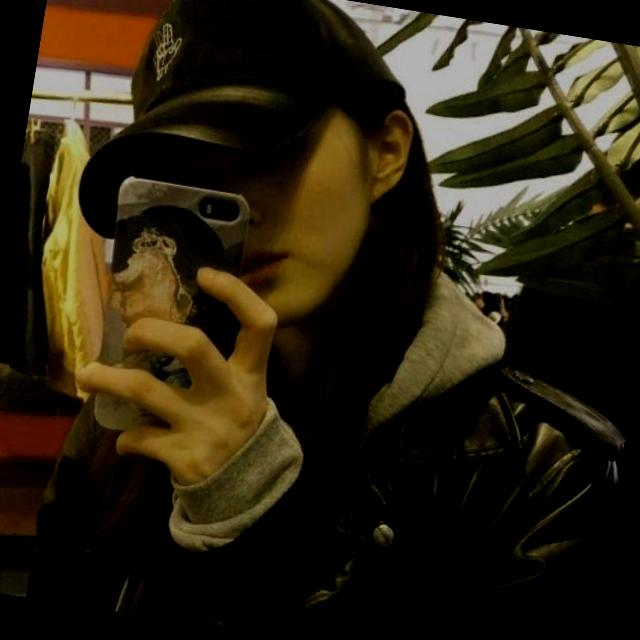lens: (198, 190, 242, 224)
phone: (90, 177, 254, 427)
